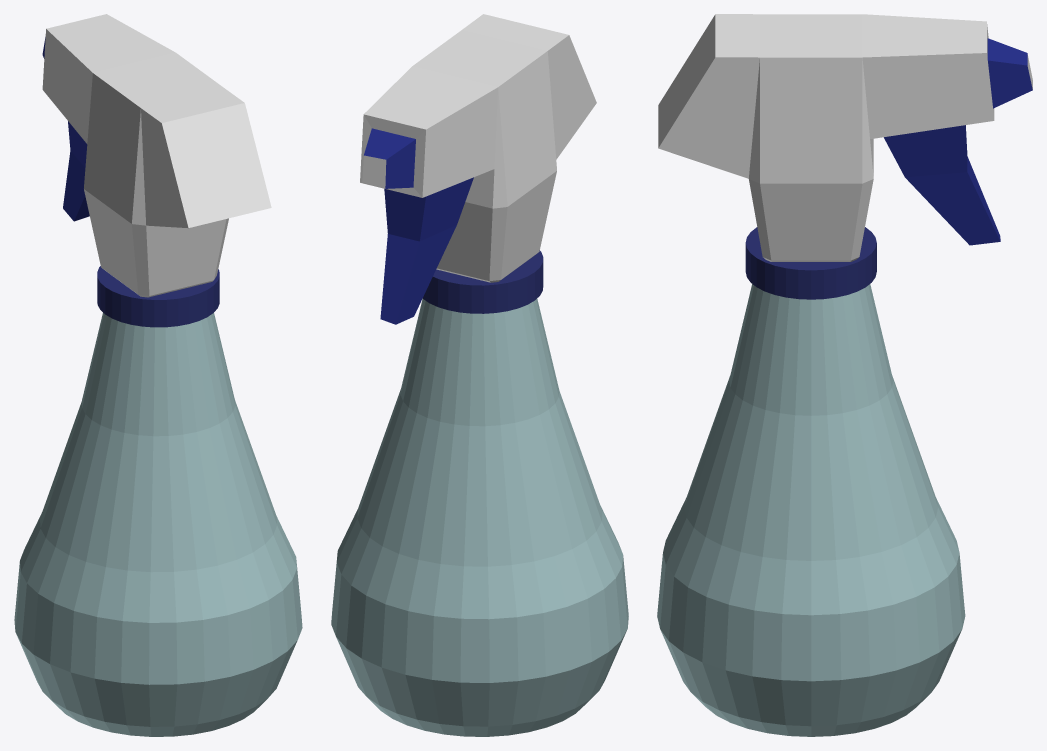
Rendered from SprayBottle.fbx.
The picture shows the model from 3 angles, left to right: view 1: azimuth 30°, elevation 25°; view 2: azimuth 150°, elevation 25°; view 3: azimuth 270°, elevation 25°; orthographic projection. The views are drawn at different scales.
Visible parts, largest first — view 1: Cylinder, Cube; view 2: Cylinder, Cube; view 3: Cylinder, Cube.
Part boxes in pixels (box(x1,y1,x2,y2)): Cylinder: box(14, 266, 302, 736); Cube: box(42, 14, 271, 297); Cylinder: box(331, 250, 628, 736); Cube: box(360, 14, 596, 324); Cylinder: box(657, 227, 965, 736); Cube: box(658, 14, 1032, 261).
Bounding box in the file's own units: 243 × 568 × 296.
